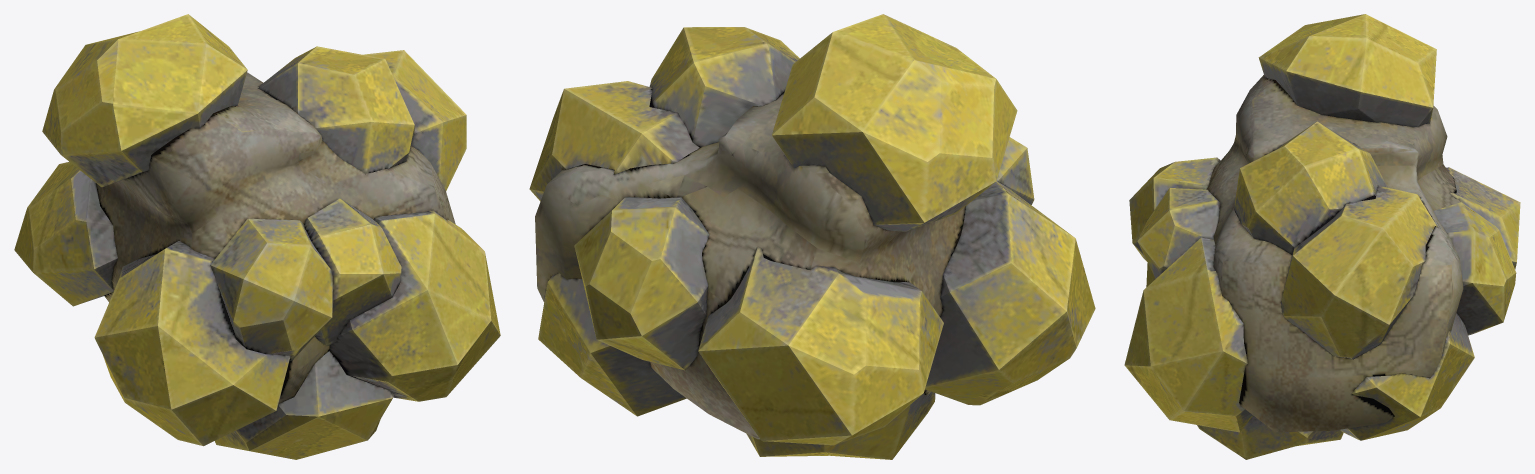
The model's file is GoldOreCluster.glb.
3 views of the same model, side by side, from view 1: azimuth 30°, elevation 25°; view 2: azimuth 150°, elevation 25°; view 3: azimuth 270°, elevation 25° (orthographic). The views are drawn at different scales.
Visible parts, largest first — view 1: GoldOreCluster; view 2: GoldOreCluster; view 3: GoldOreCluster.
Part boxes in pixels (left/top/right/bottom): GoldOreCluster: left=14, top=14, right=500, bottom=459; GoldOreCluster: left=529, top=14, right=1095, bottom=459; GoldOreCluster: left=1124, top=14, right=1520, bottom=459.
Bounding box in the file's own units: 0.7153 × 0.7021 × 0.6515.
1 material, 1 textured.
